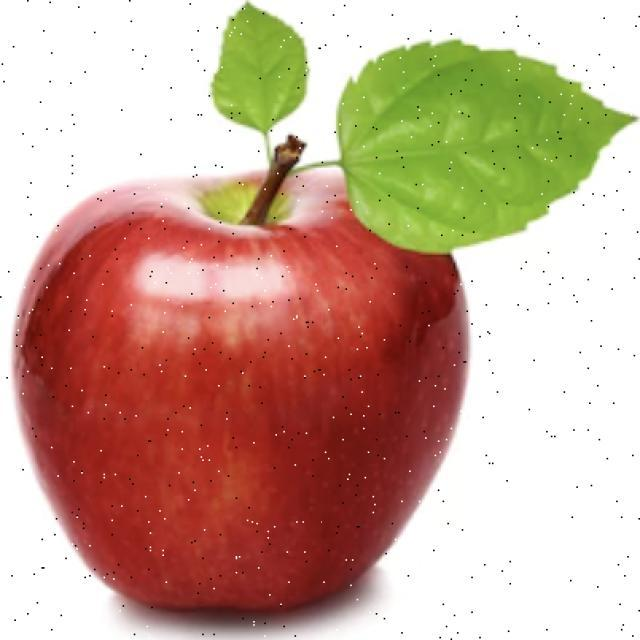Apple: (10, 154, 471, 614)
